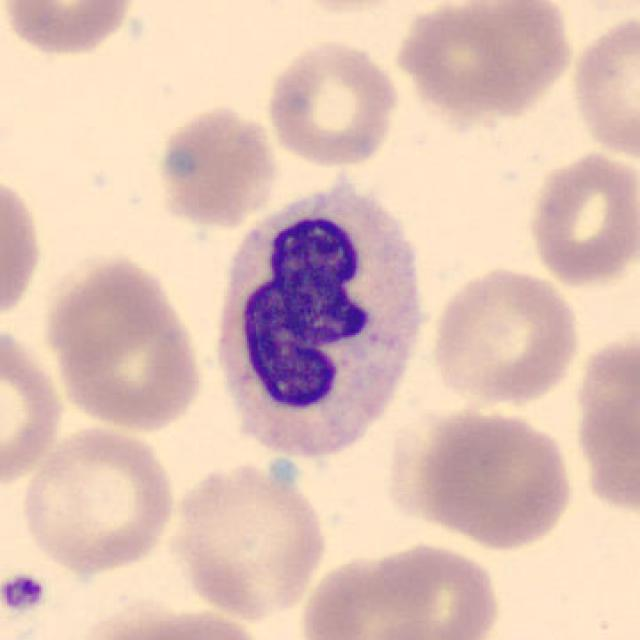Neutrophil: (201, 169, 435, 476)
Platelets: (0, 570, 50, 617)
RBC: (41, 248, 211, 436), (165, 455, 331, 624), (398, 405, 580, 552), (16, 422, 180, 578), (389, 0, 576, 122), (427, 263, 583, 409), (290, 537, 498, 640), (261, 36, 402, 170), (151, 100, 281, 231), (523, 146, 638, 289), (567, 324, 640, 524), (0, 321, 68, 495), (567, 9, 638, 162), (0, 0, 140, 60), (66, 603, 279, 640), (0, 169, 46, 330)
